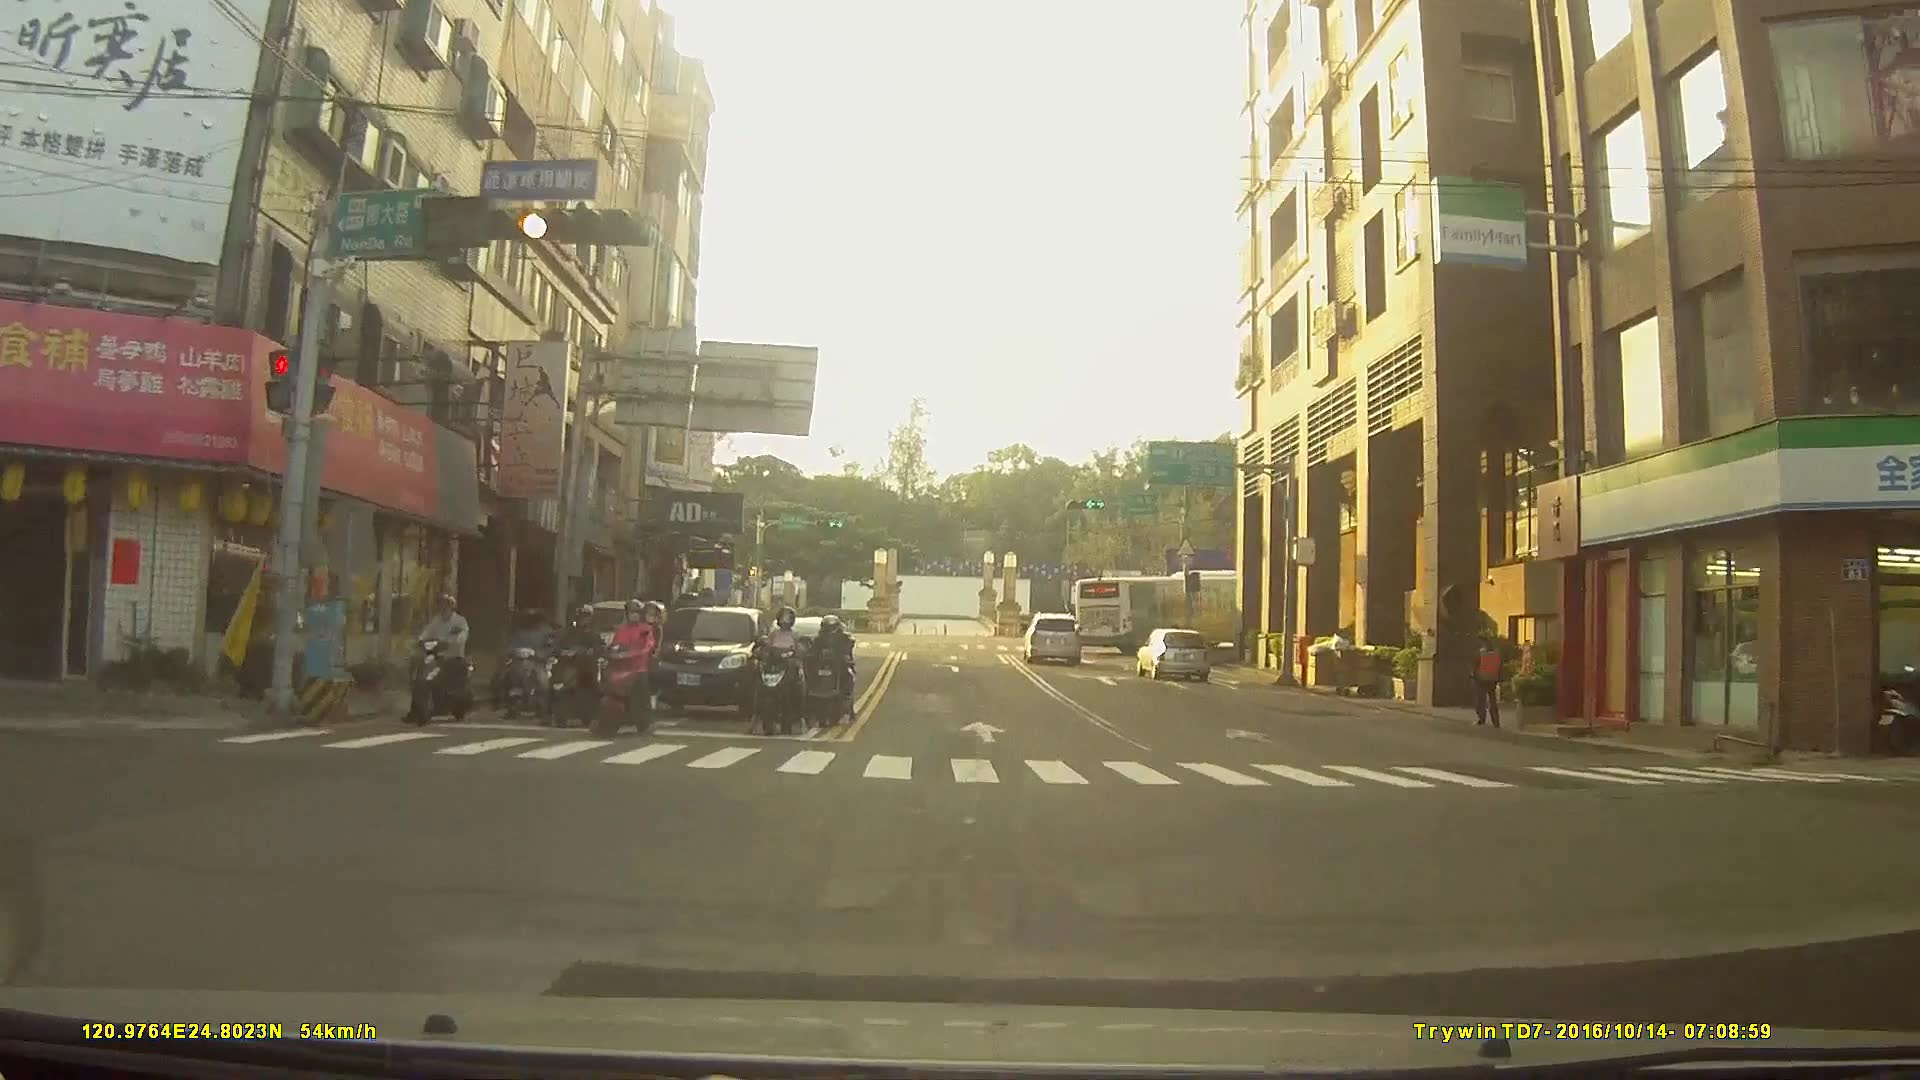pedestrian: (1470, 636, 1511, 734)
rider: (591, 597, 669, 740), (409, 594, 480, 726), (542, 603, 614, 728), (757, 611, 821, 738), (501, 603, 558, 719), (802, 619, 856, 732)
vehicle: (1074, 568, 1270, 652), (640, 603, 770, 720), (1136, 623, 1213, 678), (1023, 613, 1084, 664)
